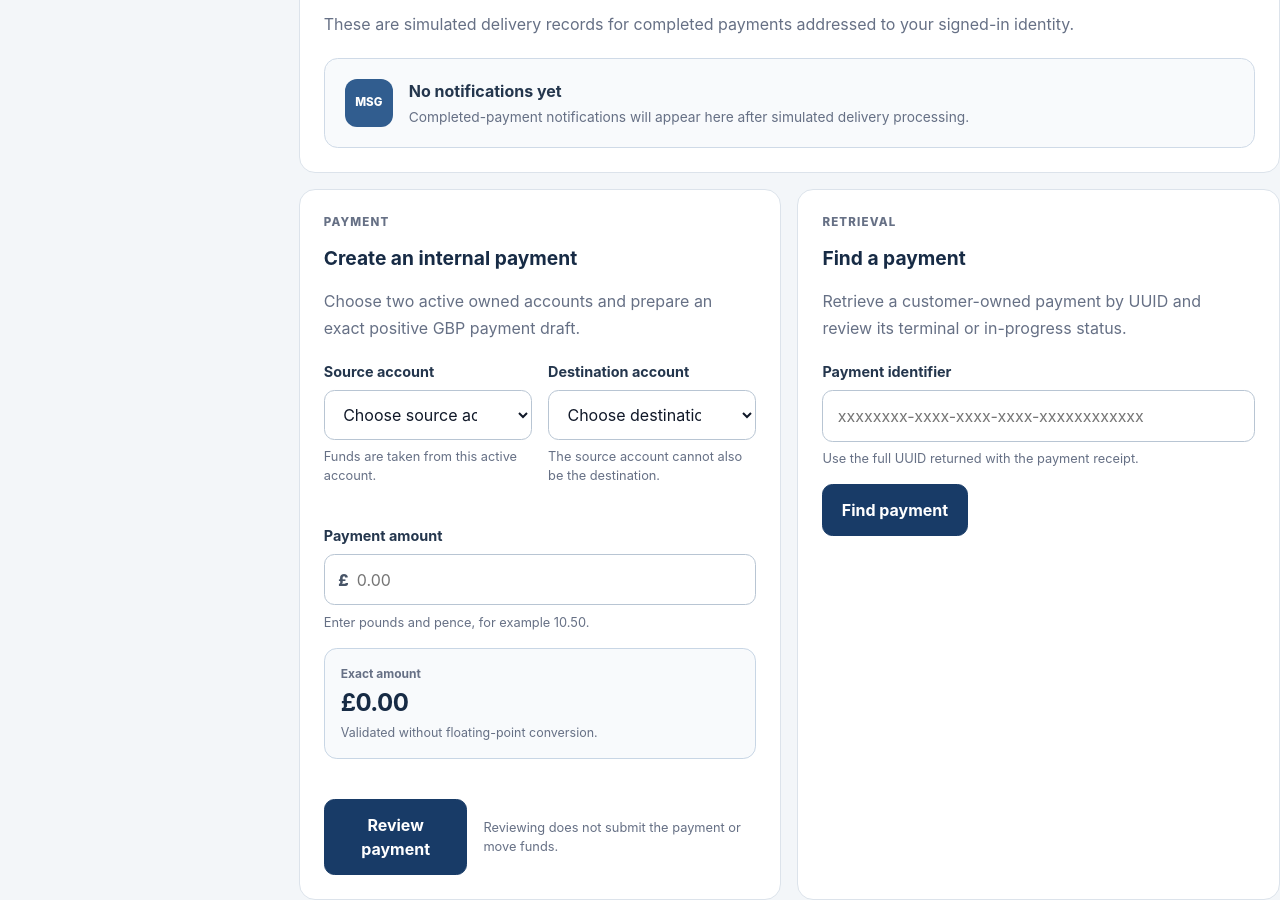
CustomerWorkspace › keeps the exact payment amount in the payment form
(page scrolled)
Type "25.4" into the field labelled "Payment amount".
click(540, 580); type("25.4")  # box [324,554,756,606]
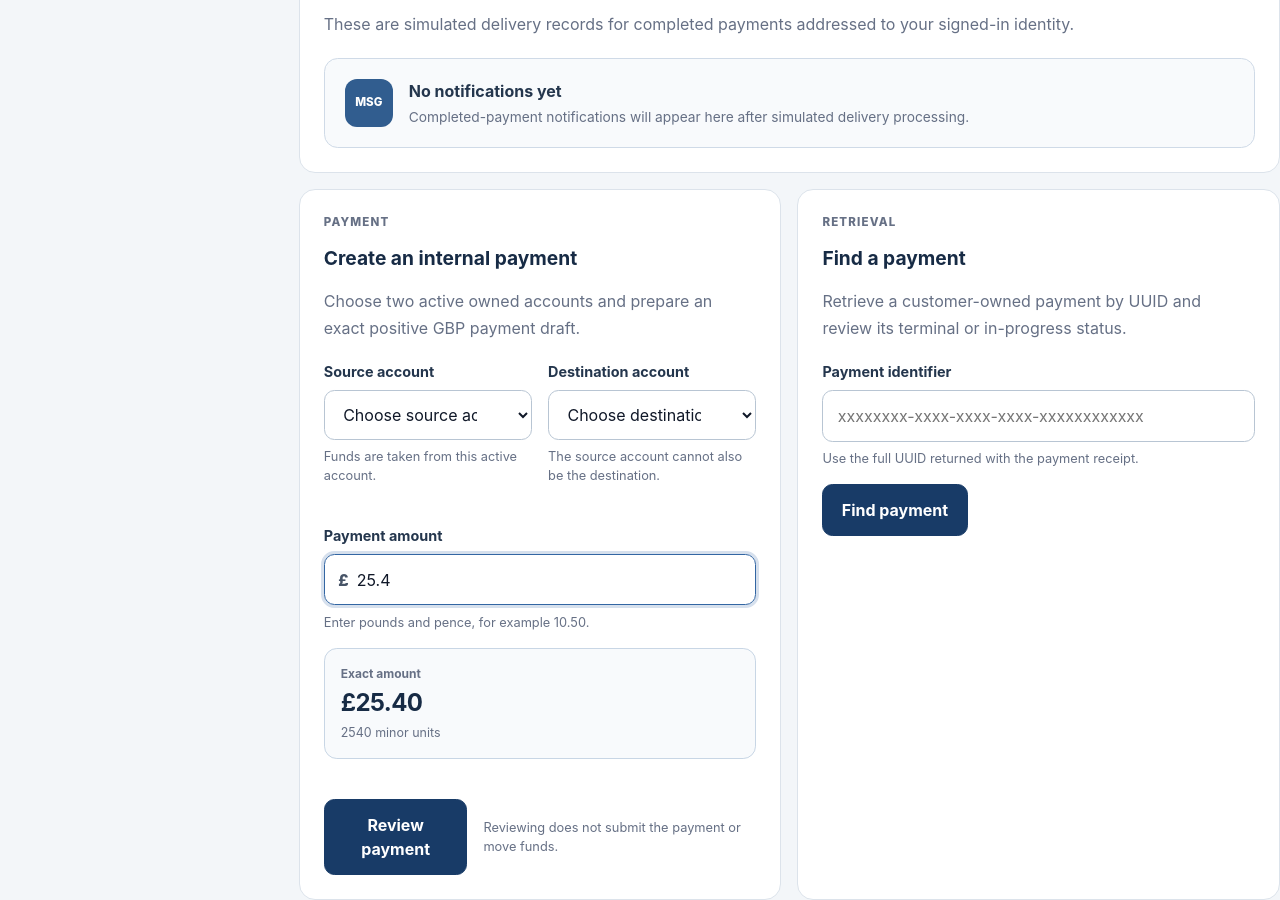
Result: the text "£25.40" is shown at [341,688,422,717]
Result: the text "2540 minor units" is shown at [341,725,440,740]
